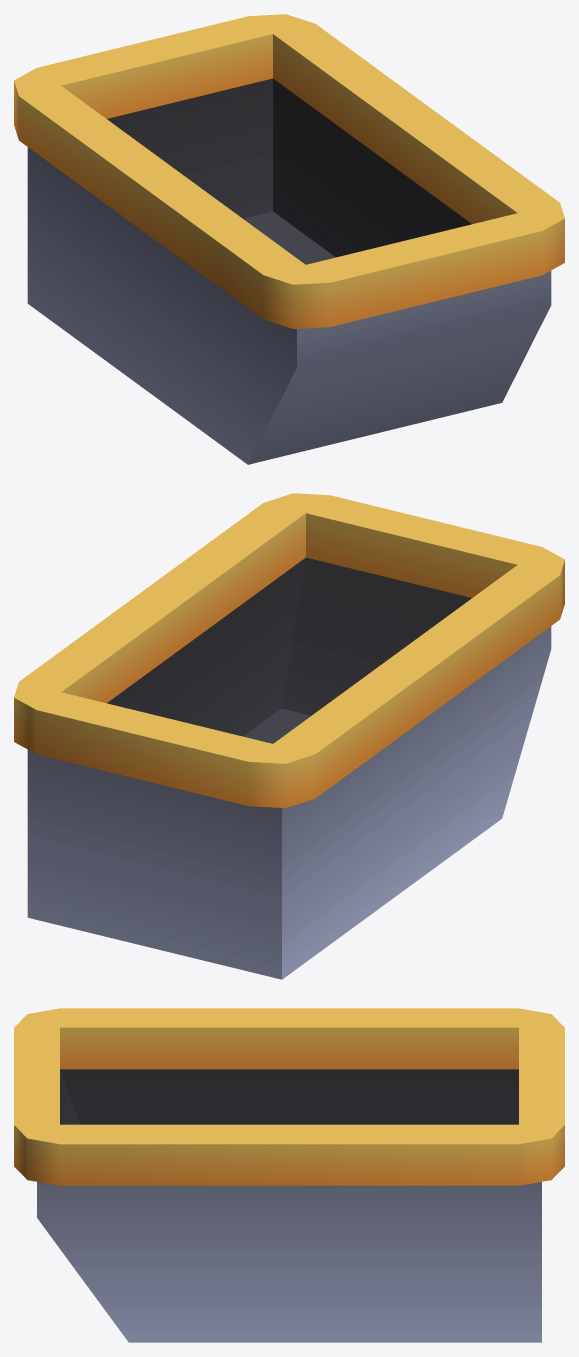
The model's file is skip.glb.
3 renders of one model, top to bottom at view 1: azimuth 30°, elevation 25°; view 2: azimuth 150°, elevation 25°; view 3: azimuth 270°, elevation 25°, orthographic. The views are drawn at different scales.
Parts seen in each view (by area): view 1: skip; view 2: skip; view 3: skip.
Part boxes in pixels (box(x1,y1,x2,y2)): skip: box(14, 14, 564, 464); skip: box(14, 493, 564, 979); skip: box(14, 1008, 564, 1342).
Bounding box in the file's own units: 0.7 × 0.5 × 1.2.
1 material, 1 textured.
